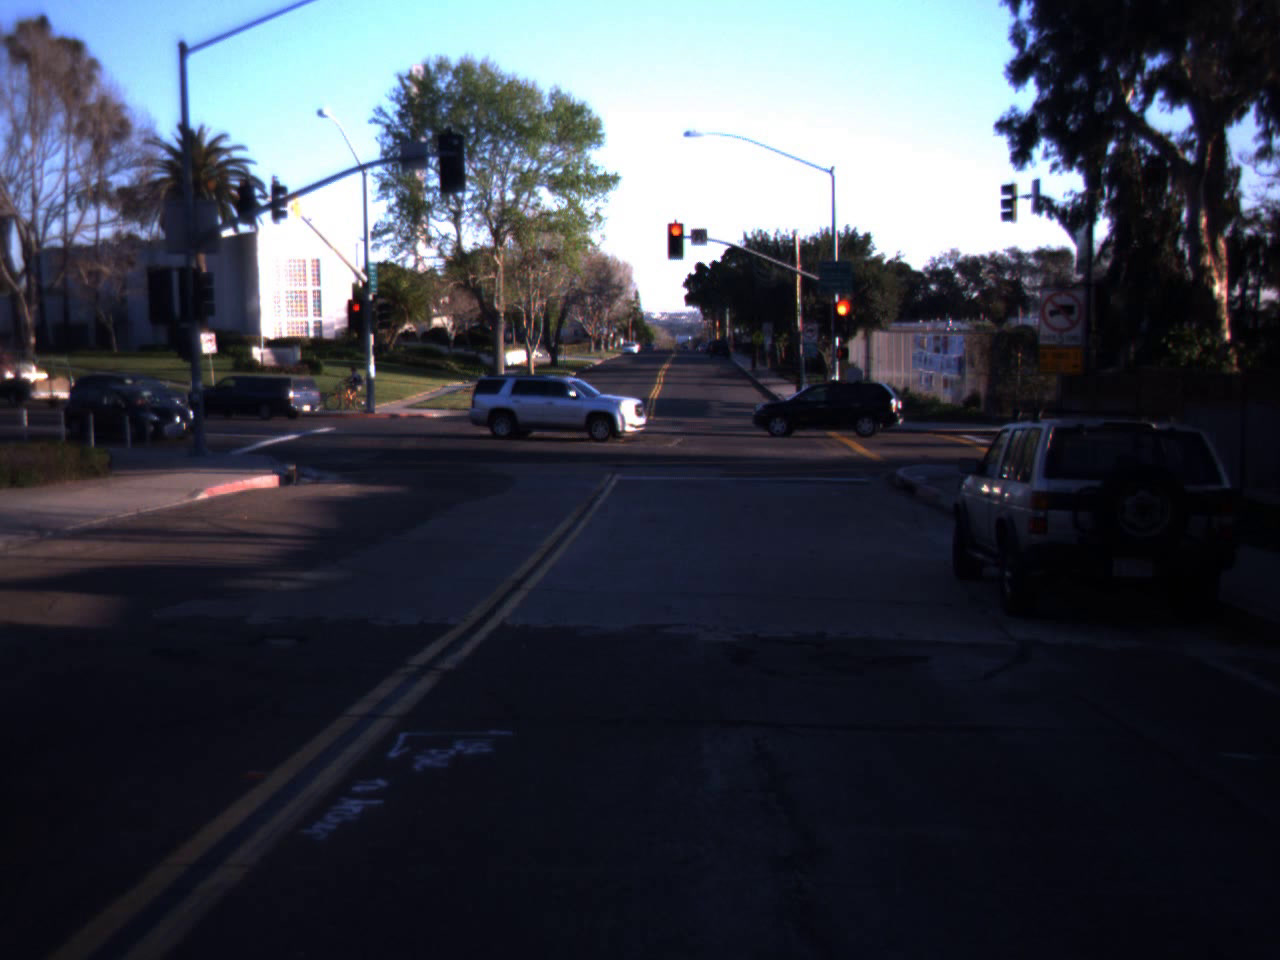stop: (827, 294, 860, 357), (663, 219, 690, 268), (350, 304, 362, 322)
